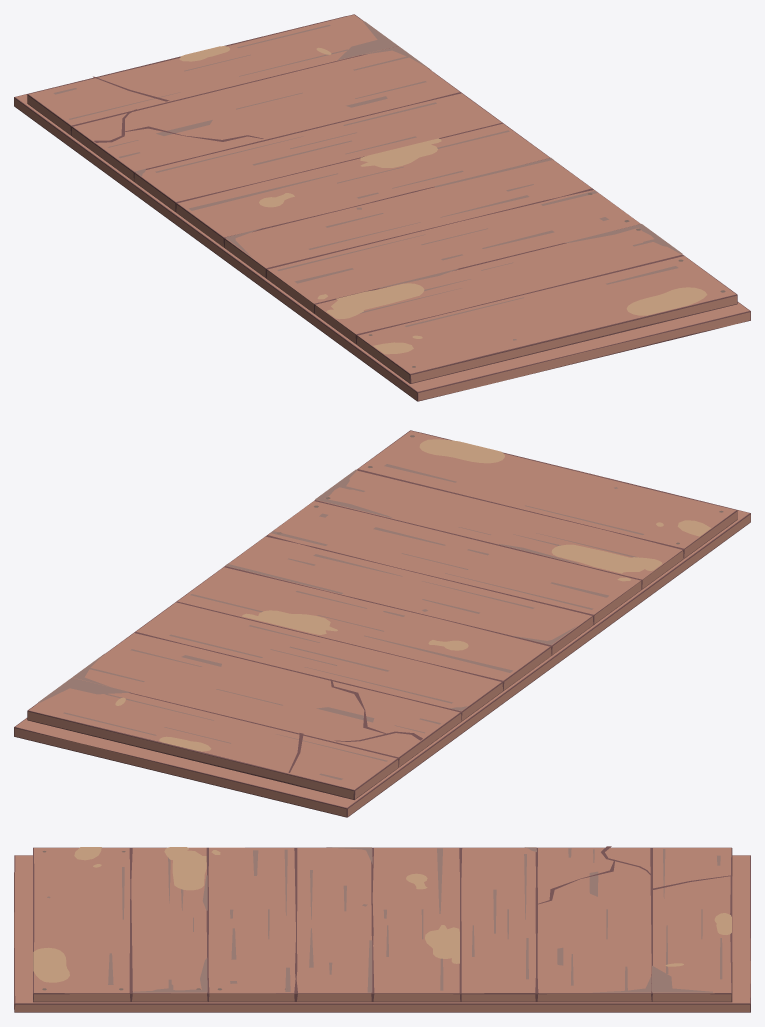
The model's file is Mesh_Adventure_Canyon_Bridge_SM.fbx.
3 renders of one model, top to bottom at view 1: azimuth 30°, elevation 25°; view 2: azimuth 150°, elevation 25°; view 3: azimuth 270°, elevation 25°, orthographic. The views are drawn at different scales.
Visible parts, largest first — view 1: Mesh_Adventure_Canyon_Bridge; view 2: Mesh_Adventure_Canyon_Bridge; view 3: Mesh_Adventure_Canyon_Bridge.
Boxes of the visible parts, x1,y1,x2,y2 form: Mesh_Adventure_Canyon_Bridge: (14,14,750,401); Mesh_Adventure_Canyon_Bridge: (14,430,750,817); Mesh_Adventure_Canyon_Bridge: (14,846,750,1012).
Bounding box in the file's own units: 167 × 9.94 × 350.
1 material, 1 textured.
